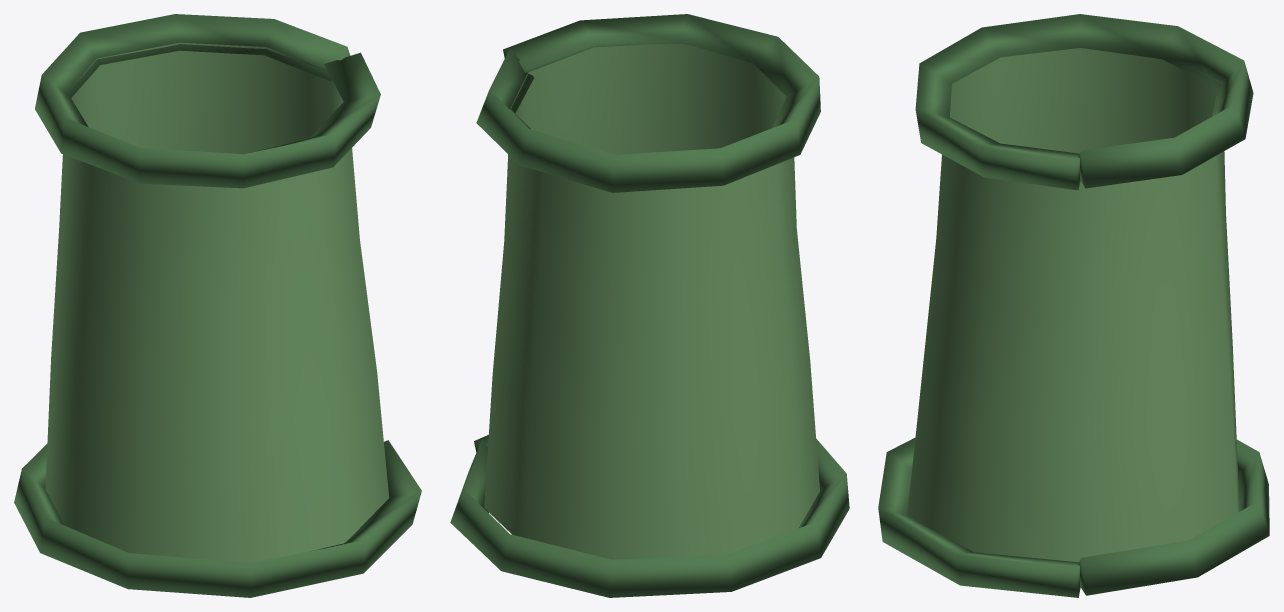
File: tungsten_armor_bracer.R.glb
The picture shows the model from 3 angles, left to right: view 1: azimuth 30°, elevation 25°; view 2: azimuth 150°, elevation 25°; view 3: azimuth 270°, elevation 25°; orthographic projection.
Visible parts, largest first — view 1: tungsten_armor_bracer.R; view 2: tungsten_armor_bracer.R; view 3: tungsten_armor_bracer.R.
Part boxes in pixels (x1,y1,x2,y2): tungsten_armor_bracer.R: [14, 14, 421, 597]; tungsten_armor_bracer.R: [450, 14, 849, 597]; tungsten_armor_bracer.R: [878, 14, 1269, 597].
Bounding box in the file's own units: 0.1435 × 0.1719 × 0.1408.
